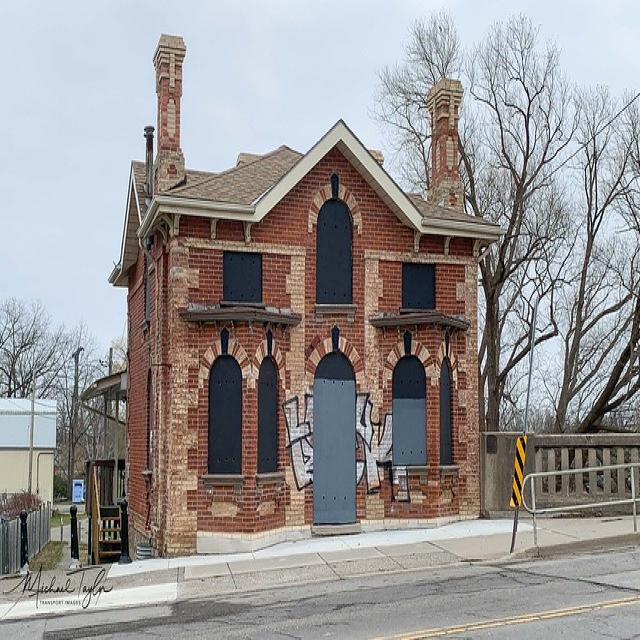Normal_building: (110, 31, 505, 558)
